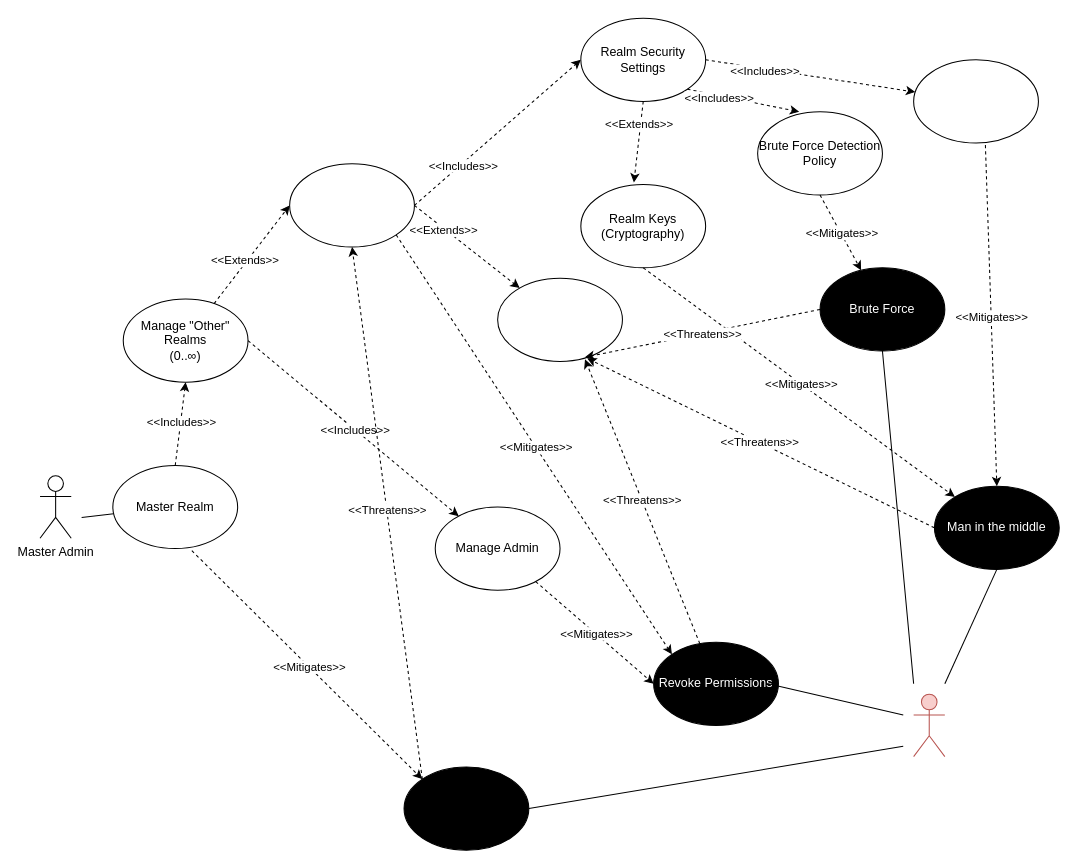
Some shapes in this 1077 by 868 pixel diagram are drawn without their labels. The shapes that lost their labels are listed below. From the top down, each one's centre as x and y in pixels, then its label:
At point (975, 101): "SSL/HTTPS".
At point (351, 205): "Manage Users / User Applications".
At point (559, 319): "Manage Clients (Applications)".
At point (929, 725): "Hacker".
At point (466, 808): "Create a realm".
